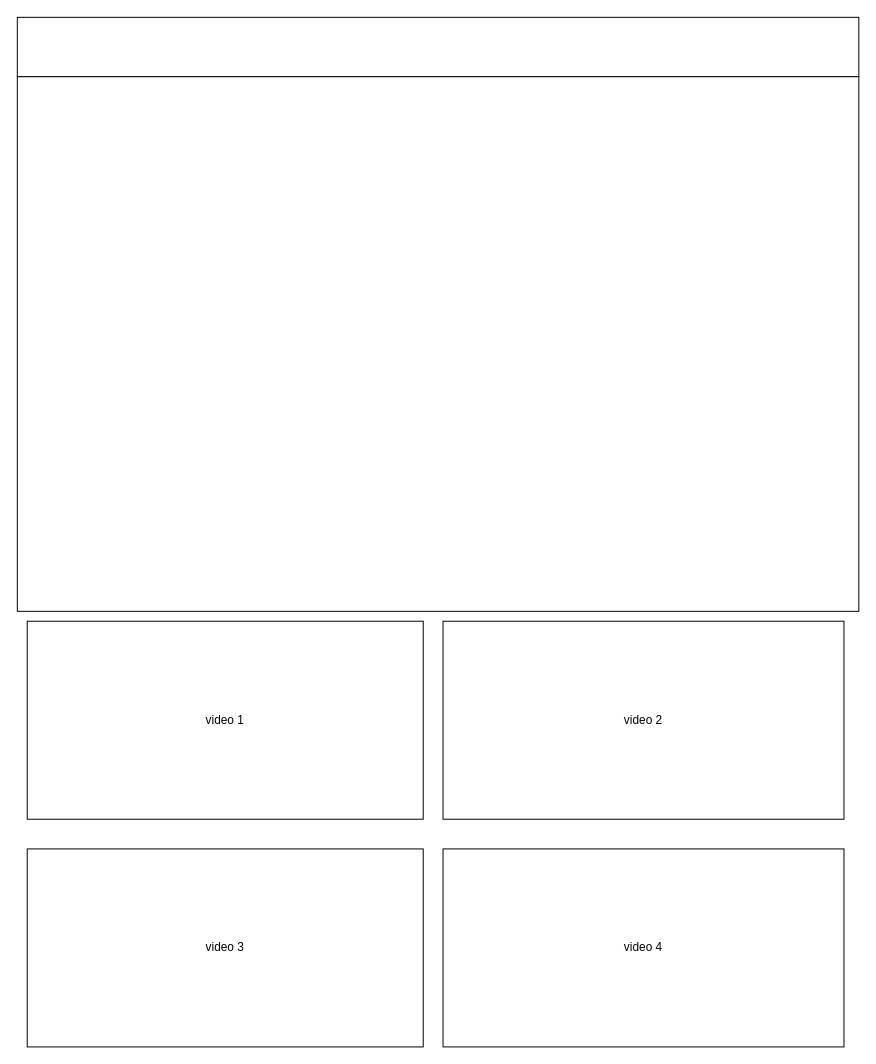
The diagram is 876 pixels wide and 1064 high, and some of its shapes have lost their labels. The centre of each missing label's shape, as x and y in pixels:
"Background Video on loop" belongs at point (437, 343).
"Invisible NavBar Videos Photos Calender Logout" belongs at point (437, 46).
